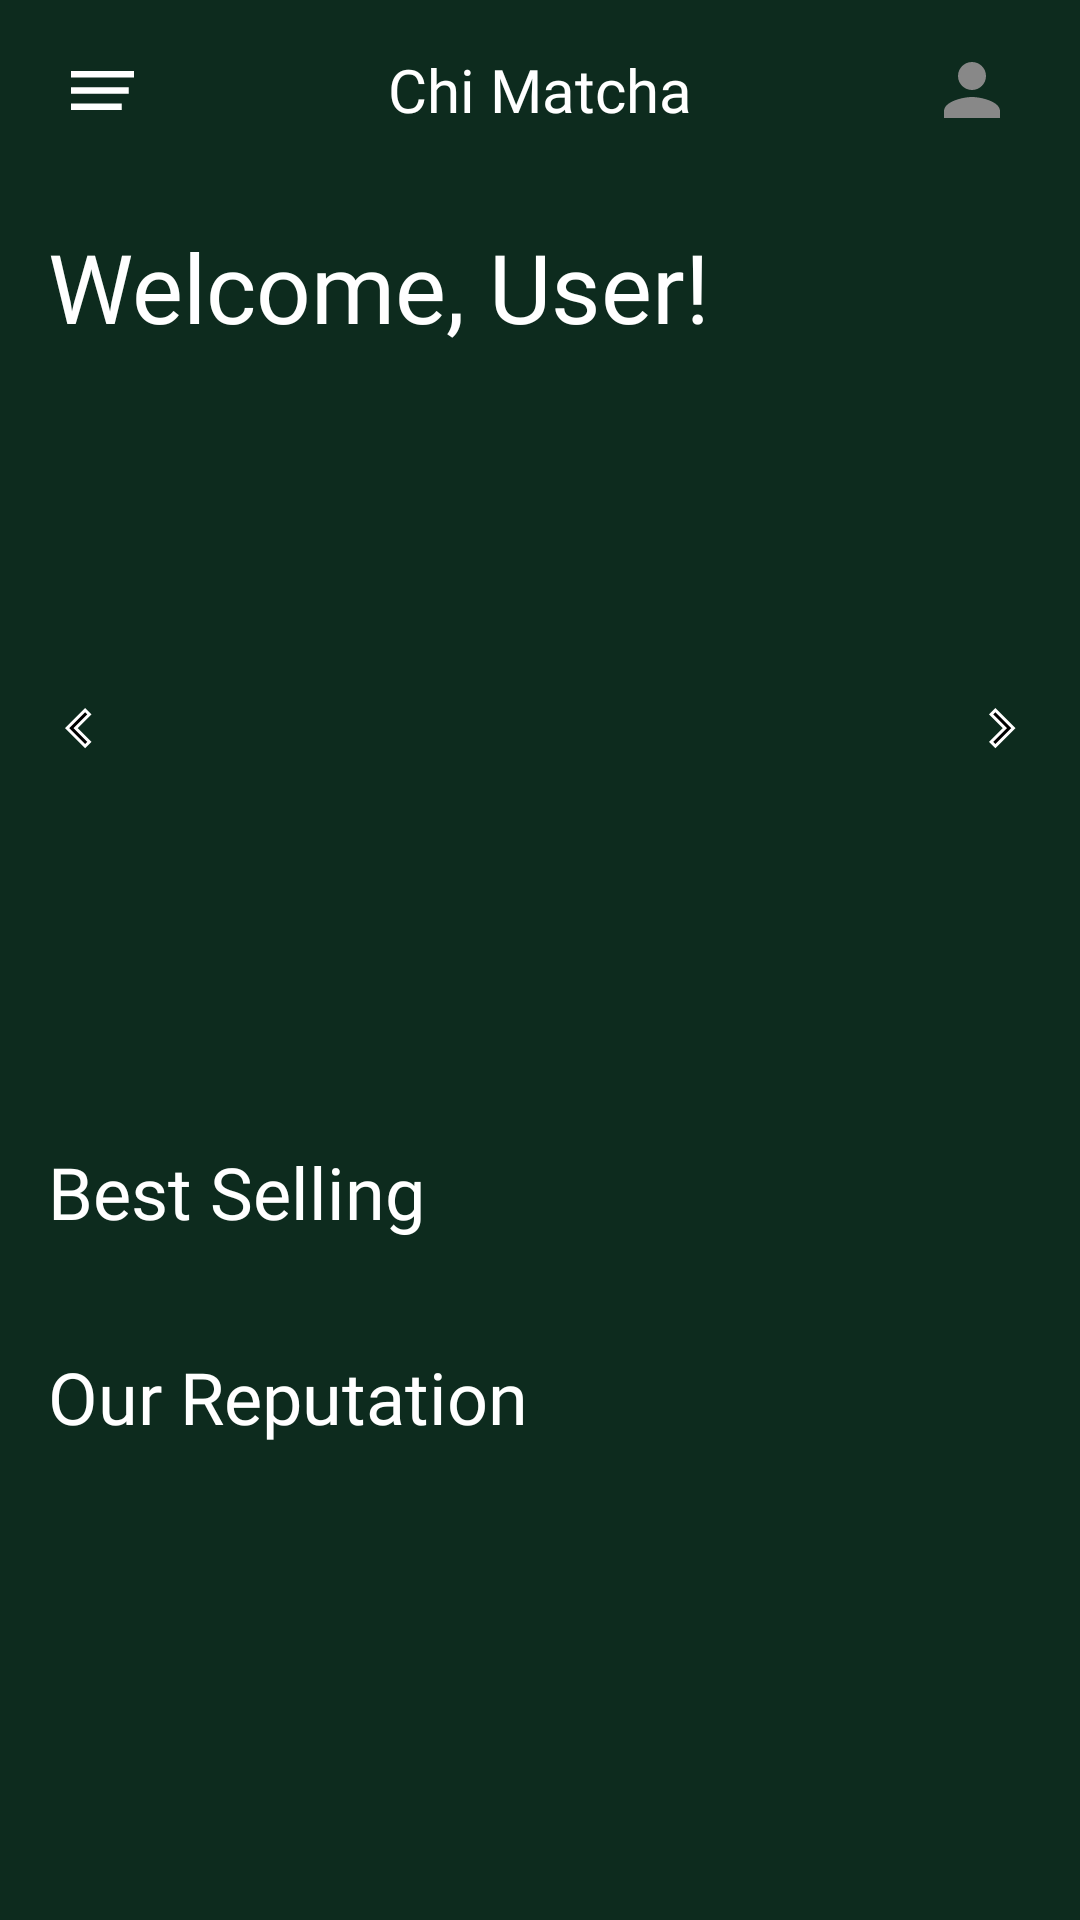

Where to tap for icons on this 1080px×1920px app screen, as [x,y]:
hamburger: [102,90]
Next: [1002,728]
Previous: [78,728]
profile: [972,90]
